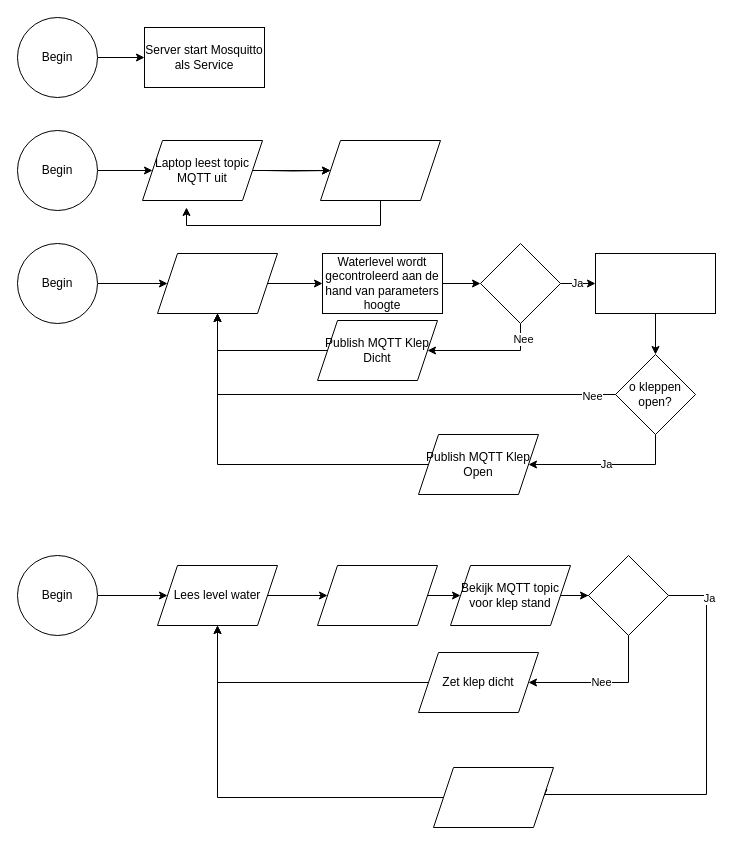
The diagram is 733 pixels wide and 845 high, and some of its shapes have lost their labels. Each missing label, with the centre of its shape:
"bekijk of er 0 kleppen open staan" belongs at point 655,283.
"CSV bestand aanvullen met Topic info waterhoogte" belongs at point 380,170.
"Klep moet open?" belongs at point 628,595.
"Laptop leest MQTT topics uit" belongs at point 217,283.
"Te weinig water" belongs at point 520,283.
"Zend level water MQTT met topic" belongs at point 377,595.
"Zet klep open" belongs at point 493,797.
